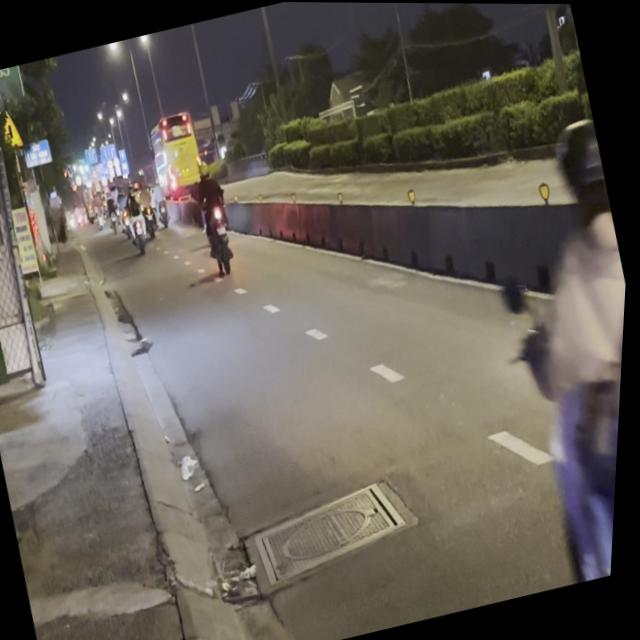helmet: (541, 110, 618, 224)
licenseplate: (450, 111, 636, 587)
